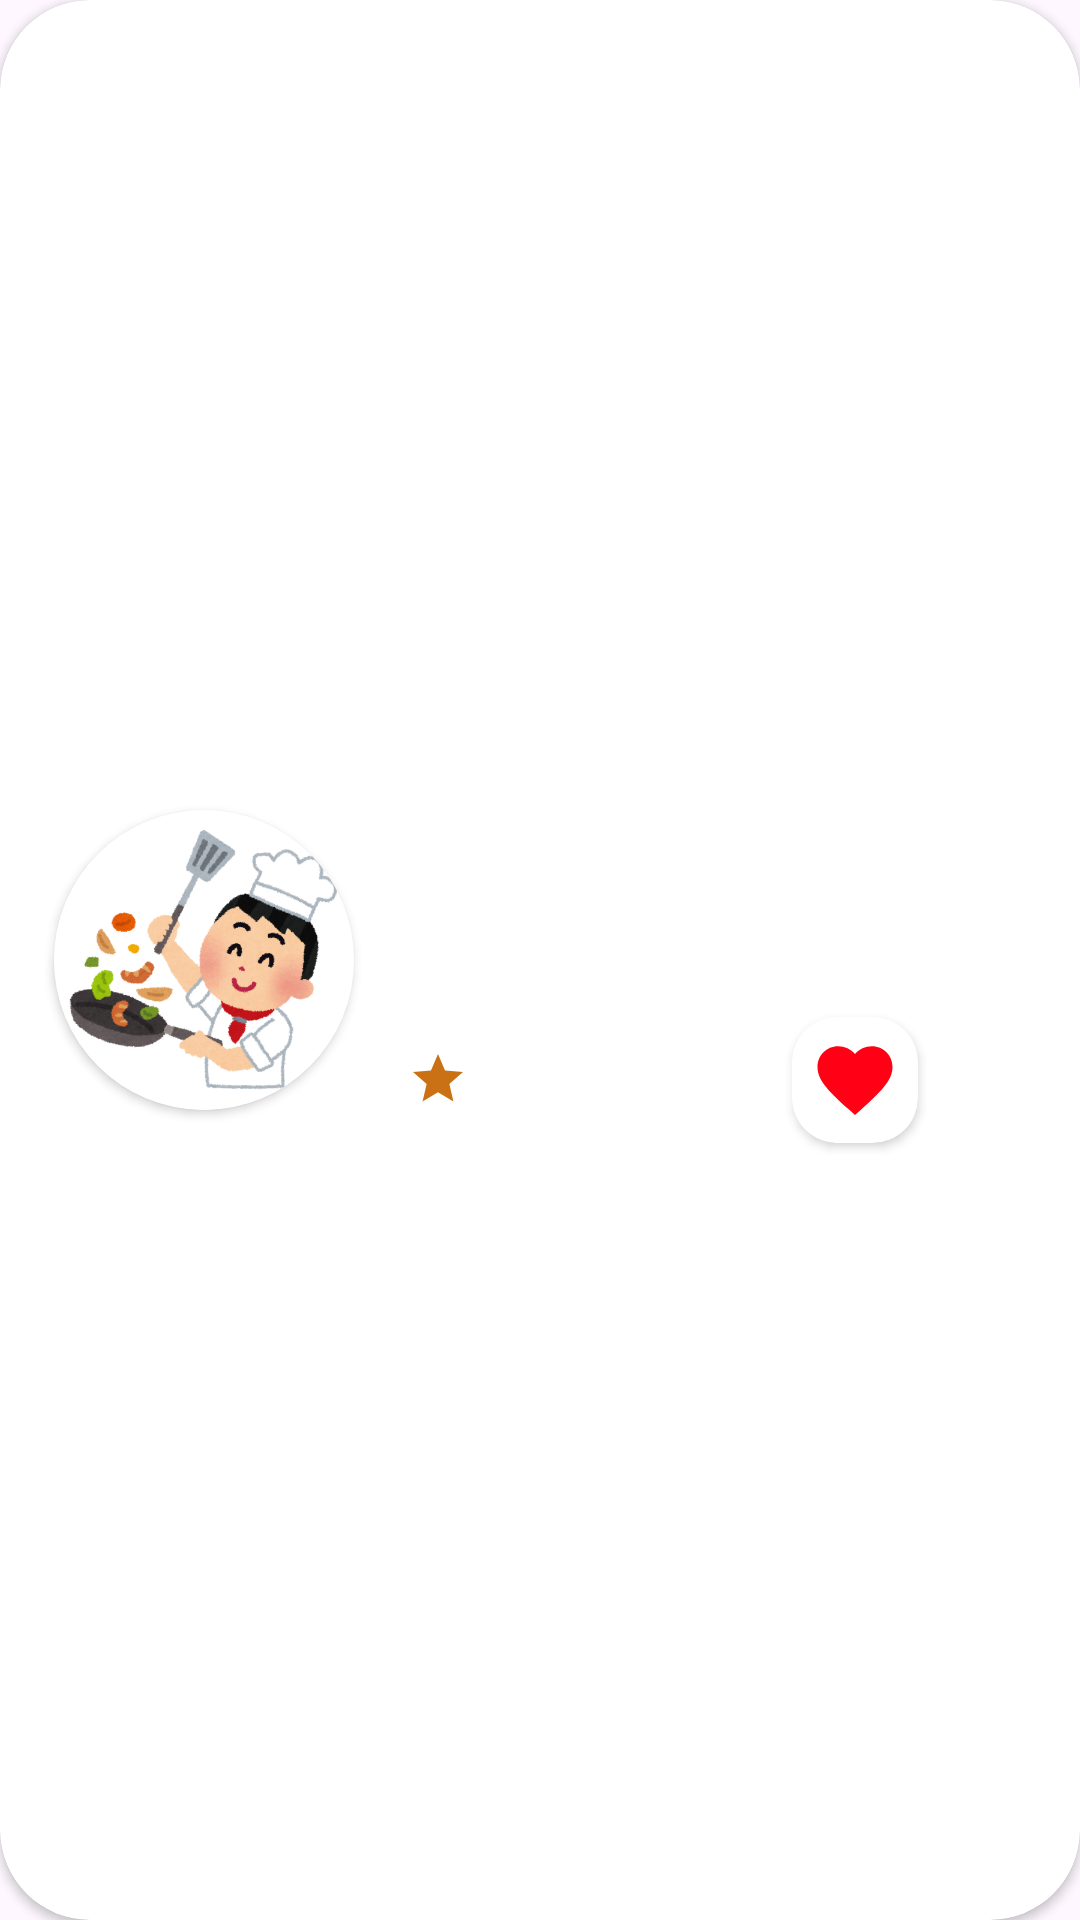

Where to tap for icons on this 1080×1920 app screen, as (x=x, y=y):
favorite: (x=855, y=1080)
